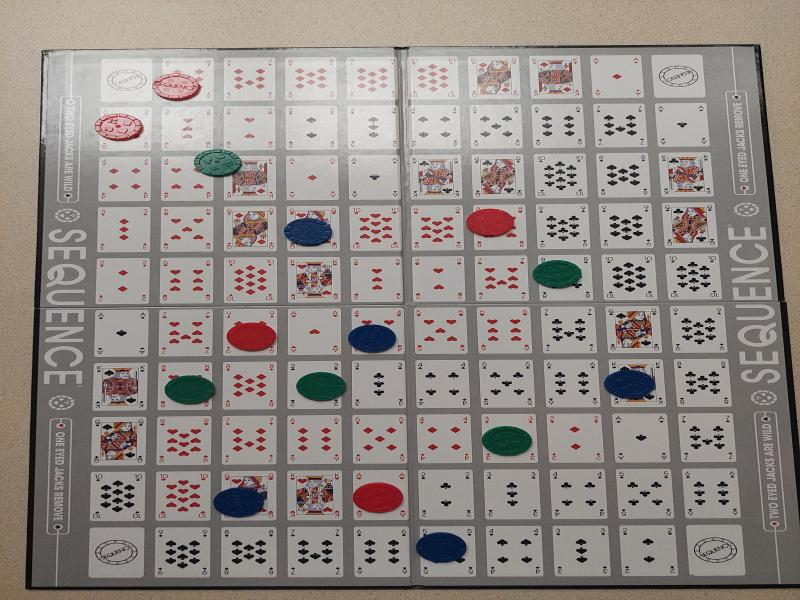Blue_Token: (401, 521, 476, 569), (344, 312, 408, 364), (268, 215, 344, 254), (205, 479, 272, 520), (598, 365, 661, 404)
Green_Token: (152, 367, 226, 416), (473, 422, 543, 461), (187, 143, 253, 182), (290, 365, 354, 405), (528, 258, 588, 293)
Red_Token: (140, 68, 214, 110), (215, 316, 290, 357), (459, 204, 519, 244), (353, 478, 410, 515), (95, 110, 146, 144)
